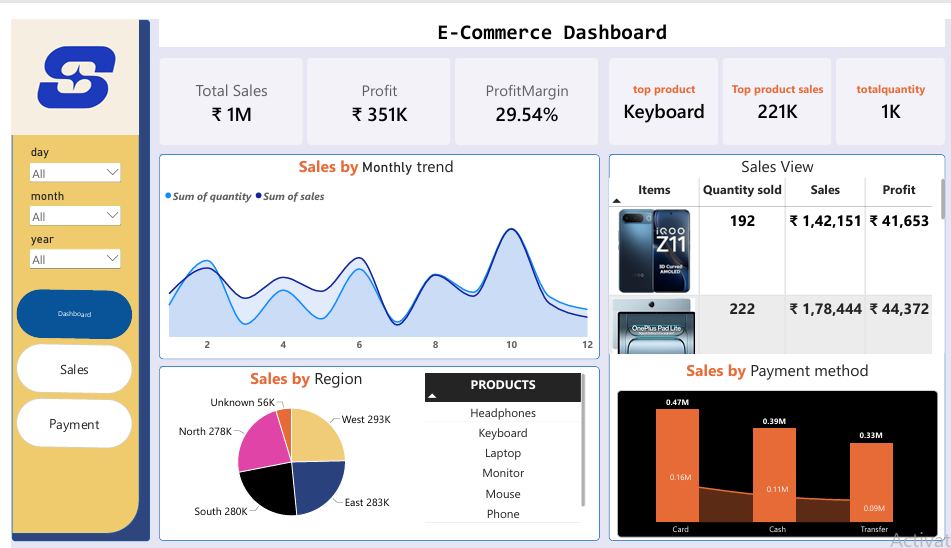

The page's visual inventory and layout, read from the dashboard file:
{"tool":"powerbi","page":{"name":"Dashboard","canvas":[1920,1080],"ordinal":0},"visuals":[{"type":"shape","box":[0,0,281,1061.9],"z":0},{"type":"shape","box":[299.8,274.3,897.2,416.7],"z":1000},{"type":"shape","box":[1216.1,274.3,684.6,786.6],"z":2000},{"type":"shape","box":[299.8,705.8,897.2,355],"z":3000},{"type":"lineChart","title":"Sale Overview","fields":{"Category":["Sheet1.month"],"Y":["Sum(Sheet1.quantity)"],"Y2":["Sum(Sheet1.sales)"]},"box":[310.4,338,873.8,342.3],"z":4000},{"type":"pieChart","title":"Sale Overview","fields":{"Category":["Sheet1.region"],"Y":["Sum(Sheet1.sales)"]},"box":[328.2,755.1,482.6,291.3],"z":5000},{"type":"cardVisual","title":"fded","fields":{"Data":["Sheet1.top product","Sheet1.Top product sales","Sheet1.totalquantity"]},"box":[1216.1,76.5,684.6,178.6],"z":6000},{"type":"tableEx","fields":{"Values":["Sheet1.image_link","Sum(Sheet1.quantity)","Sum(Sheet1.sales)","Sum(Sheet1.profit)"]},"box":[1216.9,322.5,683.7,356.9],"z":7000},{"type":"tableEx","title":"Sale Overview","fields":{"Values":["Sheet1.product"]},"box":[824.9,705.8,359.3,340.2],"z":8000},{"type":"lineStackedColumnComboChart","fields":{"Category":["Sheet1.payment_method"],"Y":["Sum(Sheet1.sales)"],"Y2":["Sum(Sheet1.profit)"]},"box":[1233.1,754.7,652.7,299.8],"z":9000},{"type":"textbox","box":[299.8,0,1600.9,57.4],"z":10000},{"type":"textbox","box":[299.8,274.3,884.4,63.8],"z":11000},{"type":"textbox","box":[1233.1,274.3,652.7,48.9],"z":12000},{"type":"textbox","box":[1233.1,690.9,652.7,63.8],"z":13000},{"type":"textbox","box":[310.4,705.8,499.6,48.9],"z":14000},{"type":"shape","box":[0,29.8,259.4,1016.2],"z":15000},{"type":"image","box":[0,0,259.4,236],"z":16000},{"type":"cardVisual","title":"fded","fields":{"Data":["Sum(Sheet1.sales)","Sum(Sheet1.profit)","Sheet1.ProfitMargin"]},"box":[299.8,76.5,897.2,178.6],"z":17000},{"type":"slicer","fields":{"Values":["Sheet1.day"]},"box":[30.1,255.9,197.8,88.2],"z":18000},{"type":"slicer","fields":{"Values":["Sheet1.month"]},"box":[30.1,344,197.8,88.2],"z":19000},{"type":"slicer","fields":{"Values":["Sheet1.year"]},"box":[30.1,432.2,197.8,88.2],"z":20000},{"type":"pageNavigator","box":[0,548.3,253.7,326.8],"z":21000}]}

Visuals, with their boxes in screenshot pixels (x1, y1, x2, y2), scaled from the page's 1920x1080 canvas onto the 951x548 screenshot:
shape: bbox(0, 0, 139, 539)
shape: bbox(148, 139, 593, 351)
shape: bbox(602, 139, 941, 538)
shape: bbox(148, 358, 593, 538)
"Sale Overview" lineChart: bbox(154, 172, 587, 345)
"Sale Overview" pieChart: bbox(163, 383, 402, 531)
"fded" cardVisual: bbox(602, 39, 941, 129)
tableEx - Sheet1.image_link x Sum(Sheet1.quantity): bbox(603, 164, 941, 345)
"Sale Overview" tableEx: bbox(409, 358, 587, 531)
lineStackedColumnComboChart - Sheet1.payment_method x Sum(Sheet1.sales): bbox(611, 383, 934, 535)
textbox: bbox(148, 0, 941, 29)
textbox: bbox(148, 139, 587, 172)
textbox: bbox(611, 139, 934, 164)
textbox: bbox(611, 351, 934, 383)
textbox: bbox(154, 358, 401, 383)
shape: bbox(0, 15, 128, 531)
image: bbox(0, 0, 128, 120)
"fded" cardVisual: bbox(148, 39, 593, 129)
slicer - Sheet1.day: bbox(15, 130, 113, 175)
slicer - Sheet1.month: bbox(15, 175, 113, 219)
slicer - Sheet1.year: bbox(15, 219, 113, 264)
pageNavigator: bbox(0, 278, 126, 444)
